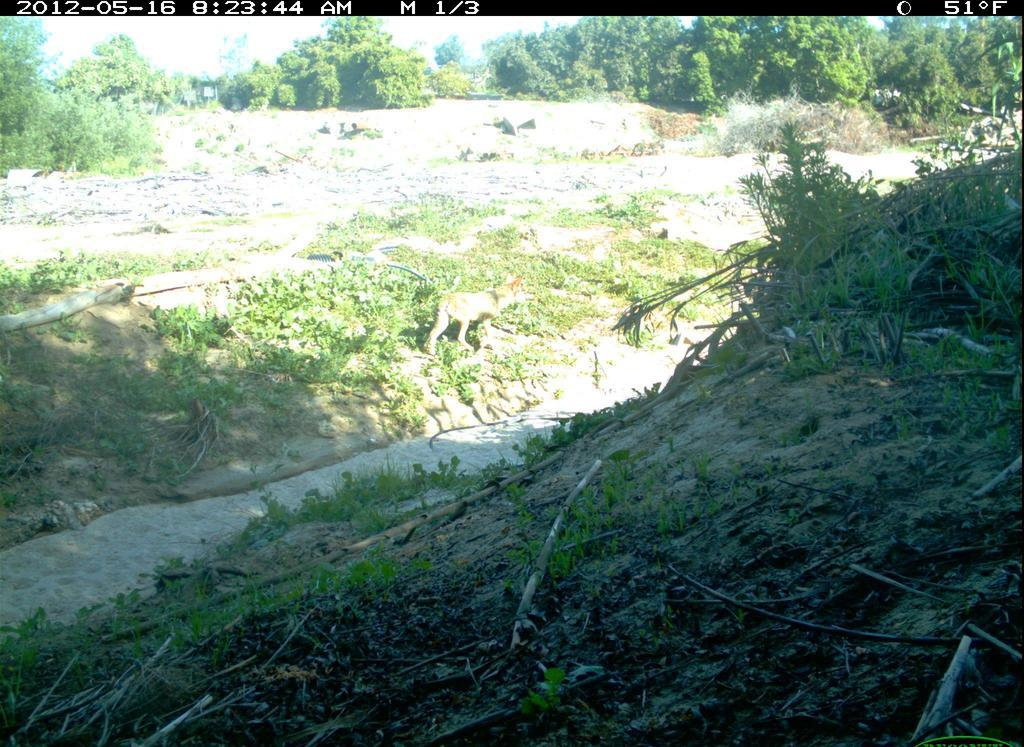coyote: (419, 272, 538, 373)
